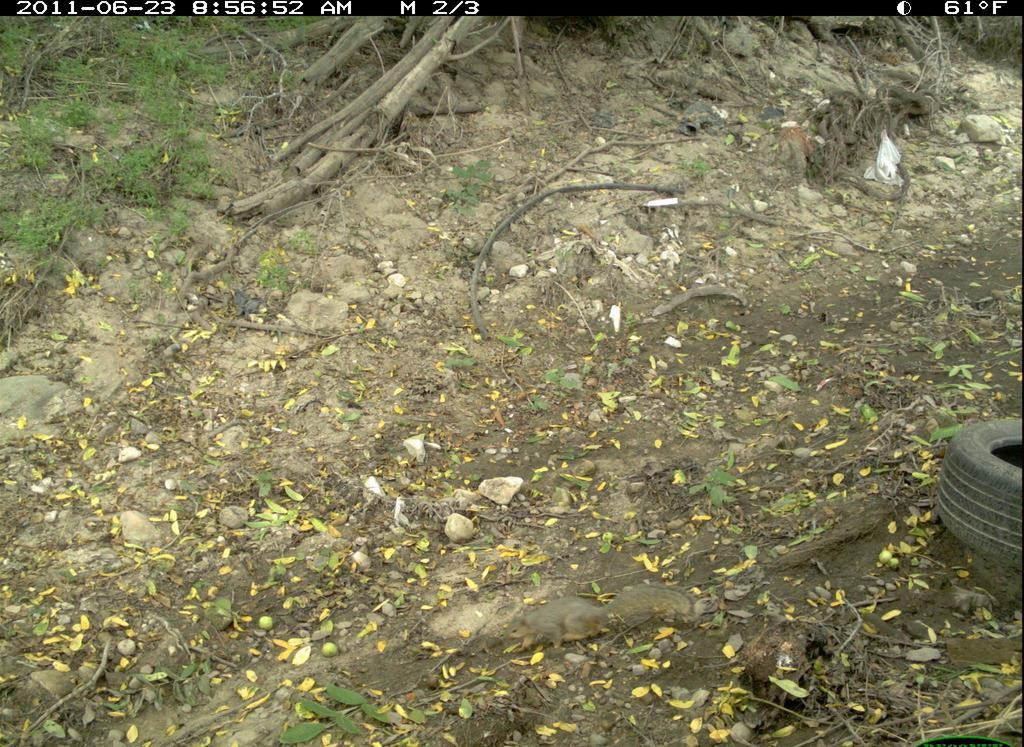squirrel: (493, 578, 751, 689)
